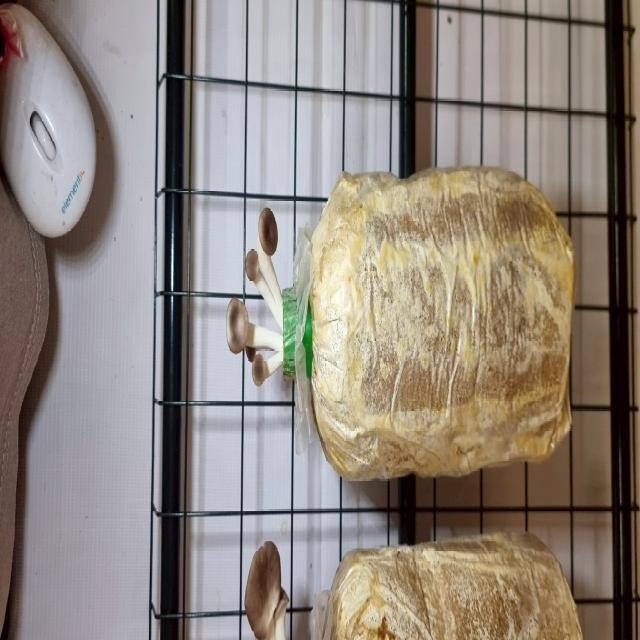normal: (223, 206, 294, 398)
